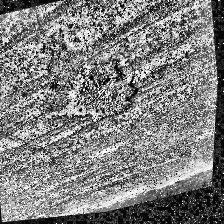pothole: (58, 54, 144, 132)
